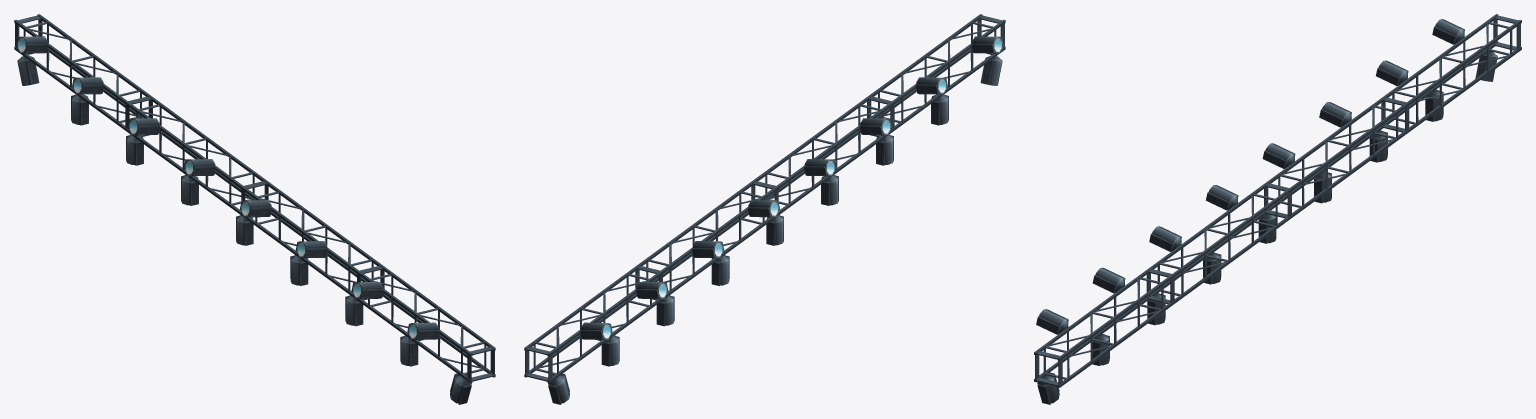
Rendered from my_ariussummer_01_wallacc_04.glb.
The picture shows the model from 3 angles, left to right: view 1: azimuth 30°, elevation 25°; view 2: azimuth 150°, elevation 25°; view 3: azimuth 330°, elevation 25°; orthographic projection.
Visible parts, largest first — view 1: my_ariussummer_01_wallacc_04; view 2: my_ariussummer_01_wallacc_04; view 3: my_ariussummer_01_wallacc_04.
Part boxes in pixels (box(x1,y1,x2,y2)): my_ariussummer_01_wallacc_04: box(14, 14, 495, 404); my_ariussummer_01_wallacc_04: box(524, 14, 1005, 404); my_ariussummer_01_wallacc_04: box(1034, 14, 1521, 404).
Size of the model in its own units: 0.0031 by 0.00402 by 0.0472.
Materials: 1 (1 with a texture image).
